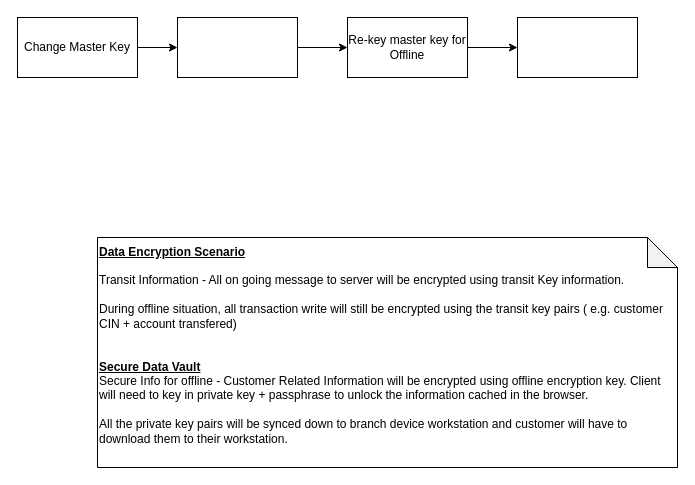
The diagram is 695 pixels wide and 485 high, and some of its shapes have lost their labels. The shapes that lost their labels are listed below. From the top down, each one's centre as x and y in pixels, then its label:
At (237,47): "Generate New GPG KeyPairs".
At (577,47): "Push down PGP encrypted key to branch device manager workstation".
